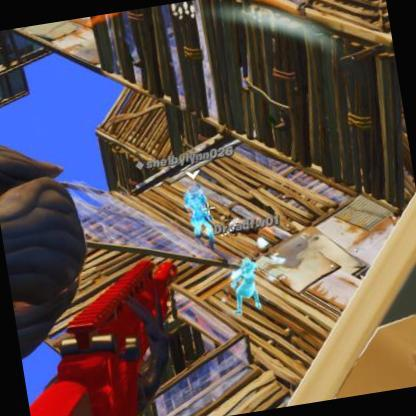person: (184, 186, 216, 249)
